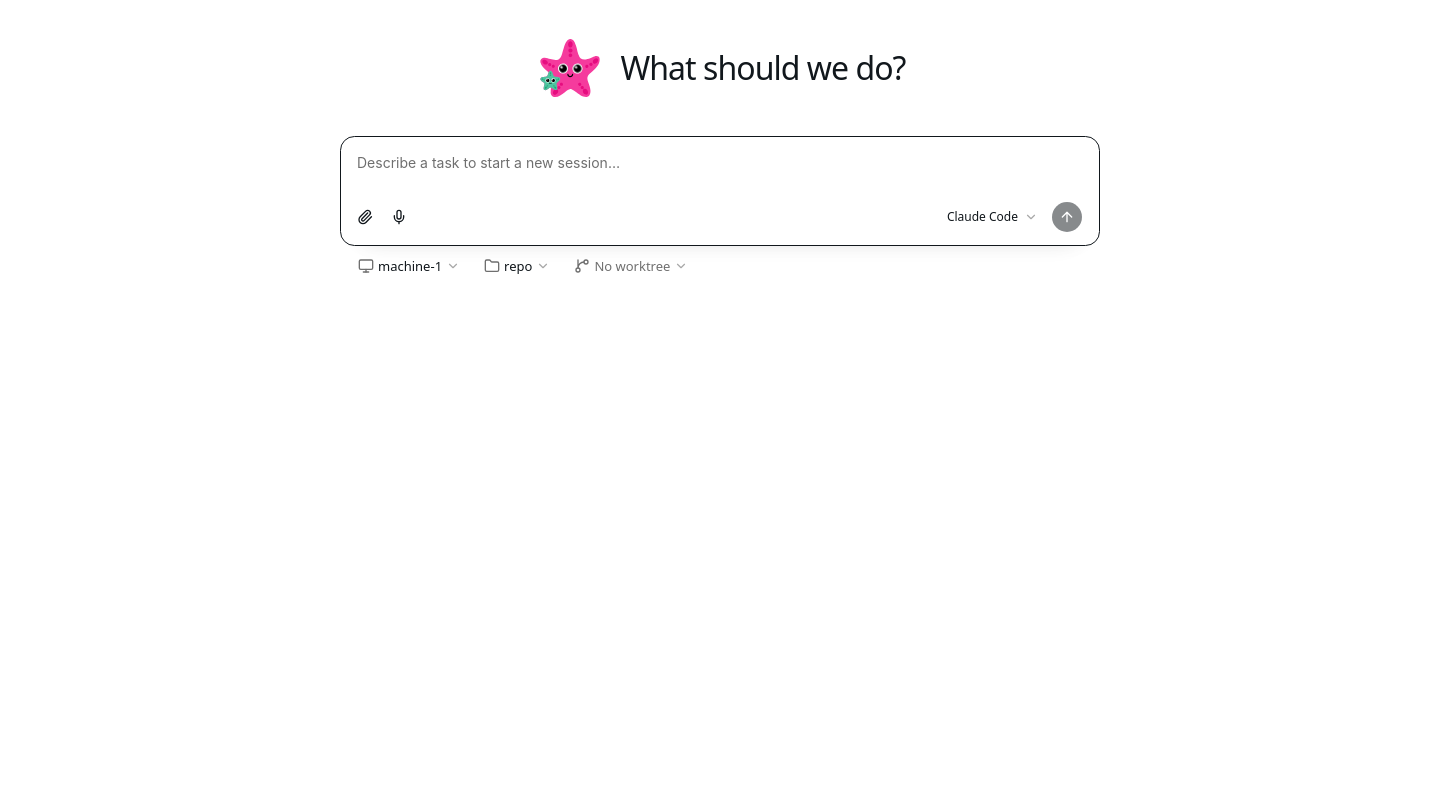
Scenario: NewChatLandingScreen › opens the file browser directly from the working-directory chip
What coordinates should you click on to do the following:
click the button with test id "new-chat-landing-workspace-chip"
I would click on:
 (517, 266)
Its box is [474, 254, 560, 278].
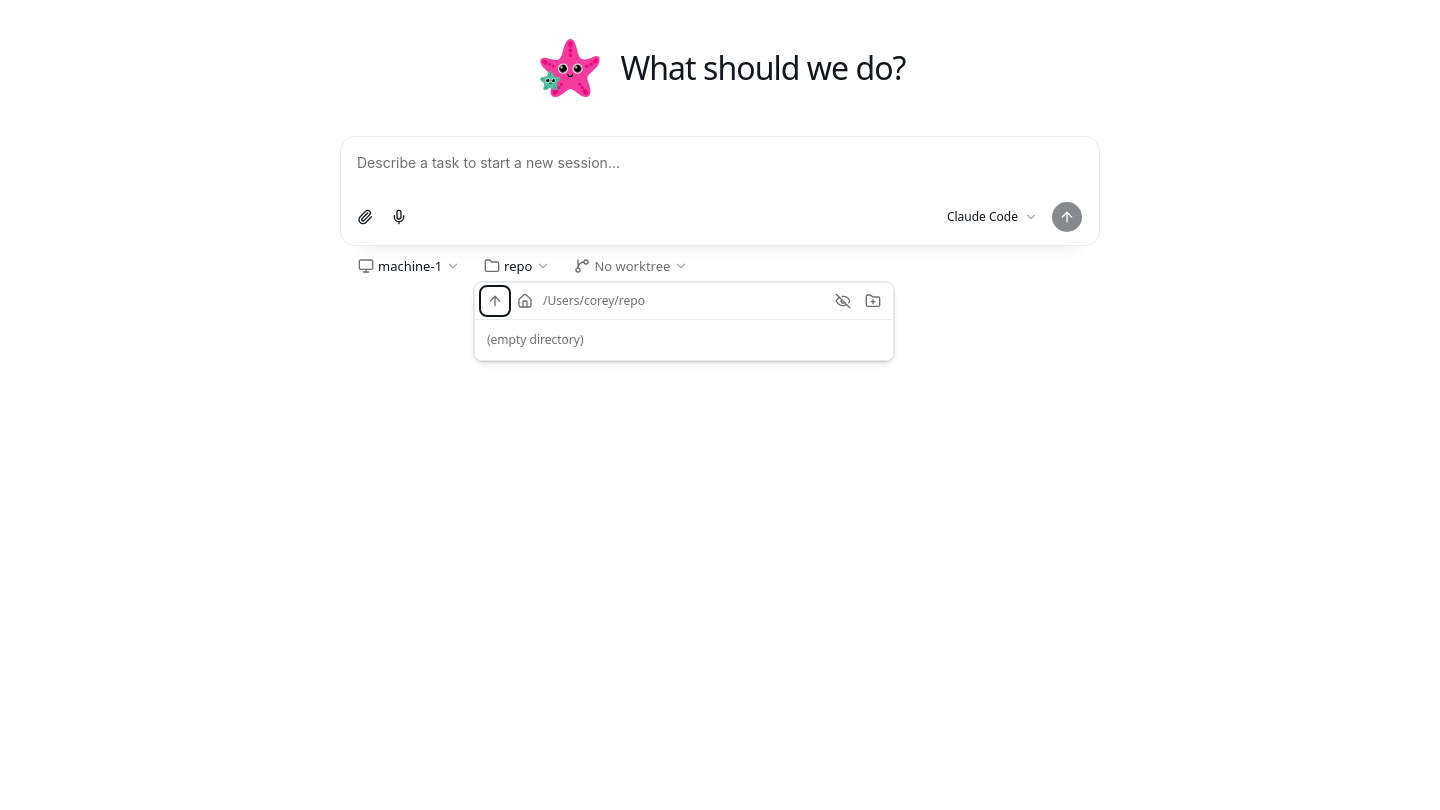
Expected: the element with test id "workspace-picker" is shown, [474, 282, 894, 361]
